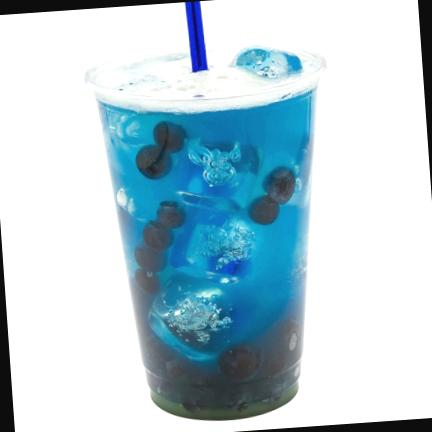container: (84, 43, 327, 419)
fluid: (95, 84, 318, 418)
fluid-surface: (90, 45, 320, 98)
